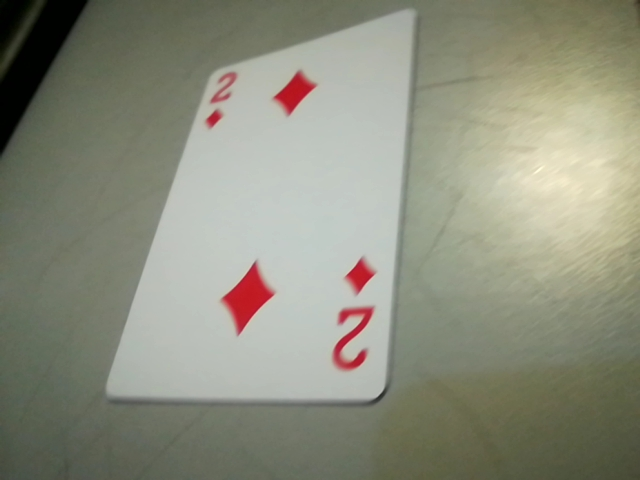fk 2: (321, 247, 390, 387)
